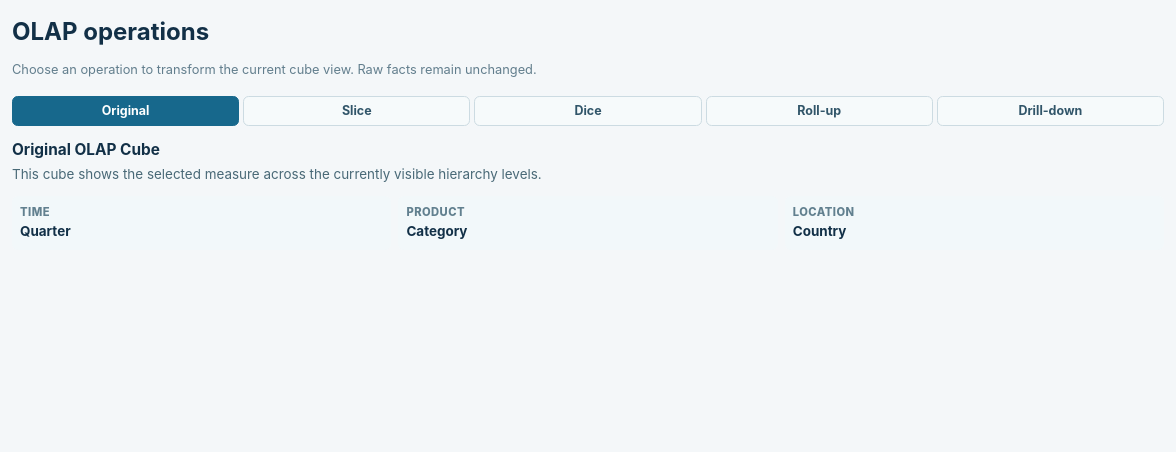
Test case: OperationTabs UI smoke › starts on Original and switches to Slice, Dice, Roll-up, and Drill-down panels
expect the heading "OLAP operations" is shown: met, box 12,17 -> 209,46
expect the element named "OLAP operations" is shown: met, box 12,96 -> 1164,126
Click the tab "Slice". click: [357, 111]
box: 243,96 -> 470,126
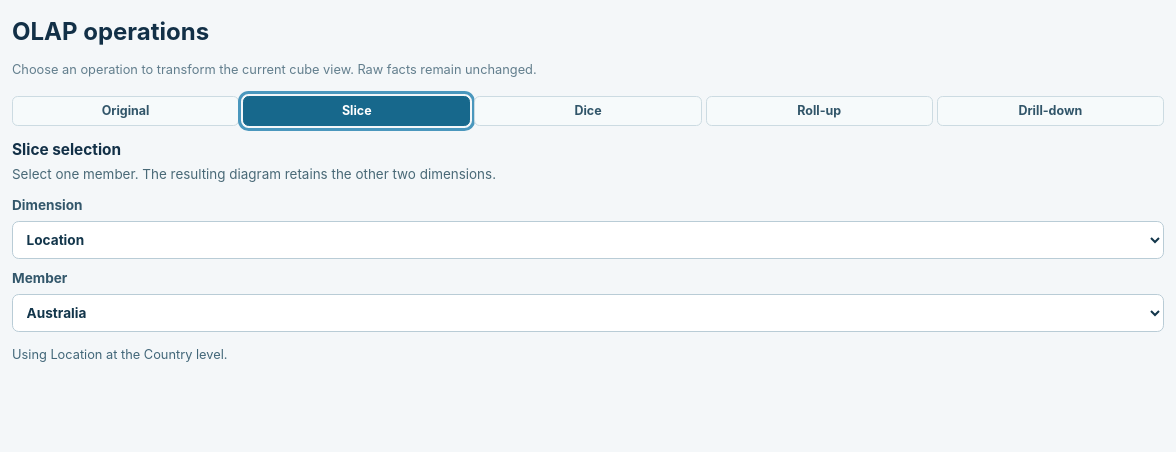
expect the heading "Slice selection" is shown: met, box 12,140 -> 121,159
expect the dropdown labelled "Dimension" is shown: met, box 12,221 -> 1164,259
Click the tab "Dice". click: [588, 111]
box: 474,96 -> 702,126
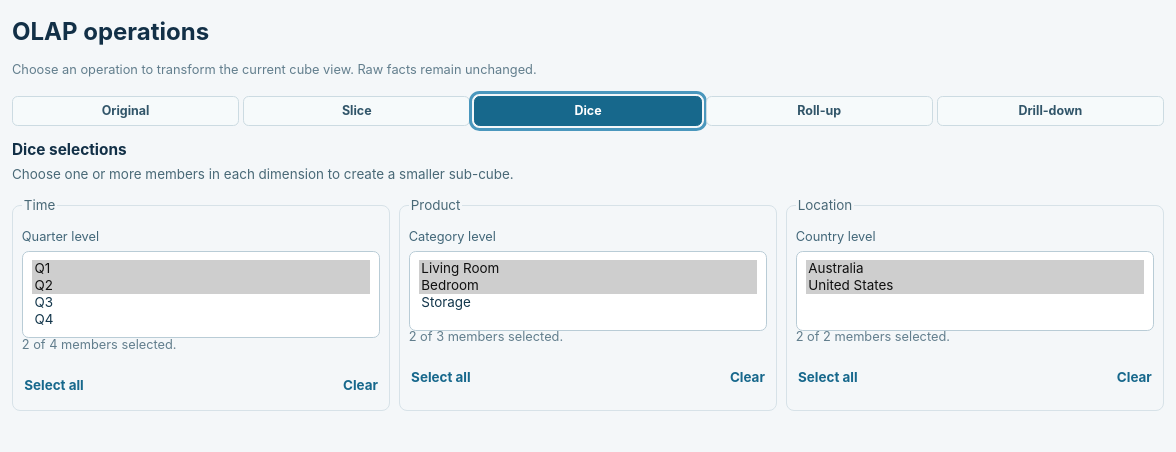
expect the heading "Dice selections" is shown: met, box 12,140 -> 127,159
Click the tab "Roll-up". click: [819, 111]
box: 706,96 -> 933,126
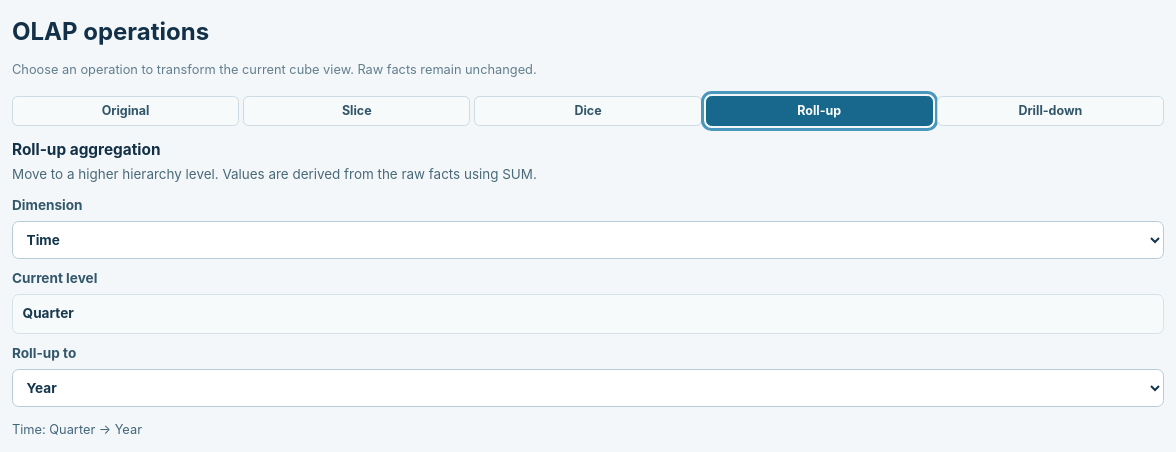
expect the heading "Roll-up aggregation" is shown: met, box 12,140 -> 160,159
Click the tab "Drill-down". click: [1050, 111]
box: 937,96 -> 1164,126
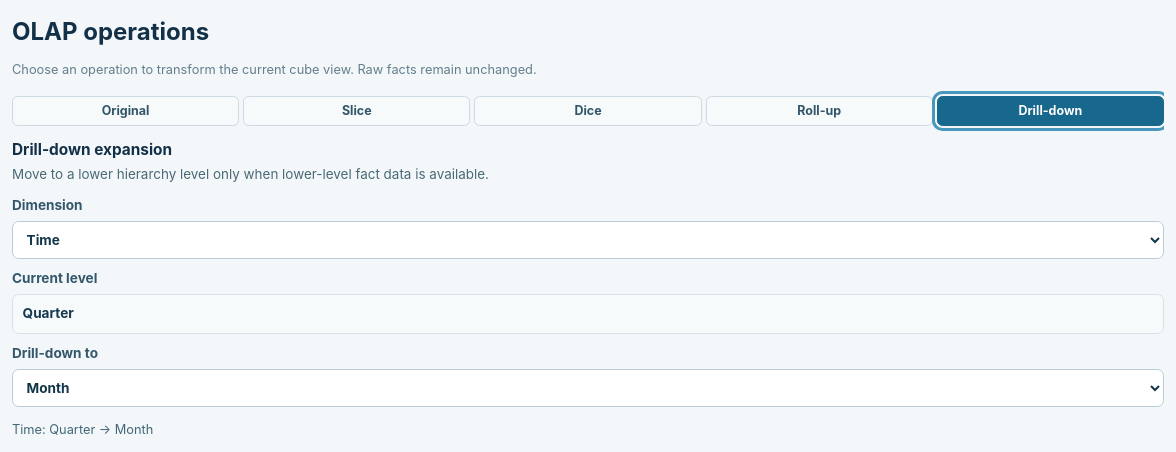
expect the heading "Drill-down expansion" is shown: met, box 12,140 -> 172,159
